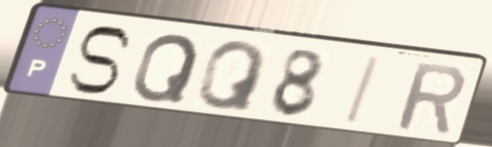8: (270, 47, 330, 120)
I: (340, 53, 386, 128)
Q: (194, 39, 271, 115), (128, 31, 204, 104)
R: (393, 59, 468, 138)
S: (64, 23, 136, 98)
